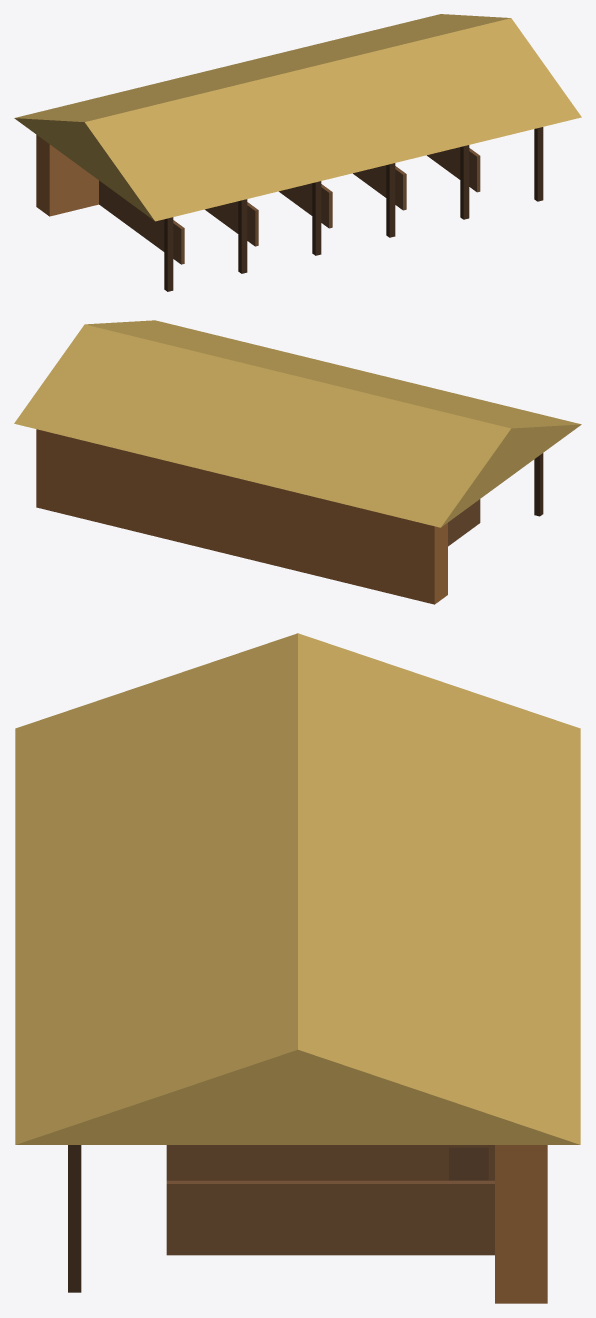
The model's file is stable.glb.
3 views of the same model, one above another, from view 1: azimuth 30°, elevation 25°; view 2: azimuth 150°, elevation 25°; view 3: azimuth 270°, elevation 25° (orthographic). The views are drawn at different scales.
Visible parts, largest first — view 1: Stable; view 2: Stable; view 3: Stable.
Part boxes in pixels (<box>): Stable: <box>14,14,581,291</box>; Stable: <box>14,320,581,604</box>; Stable: <box>15,633,580,1303</box>.
Bounding box in the file's own units: 15 × 4.5 × 8.6.
